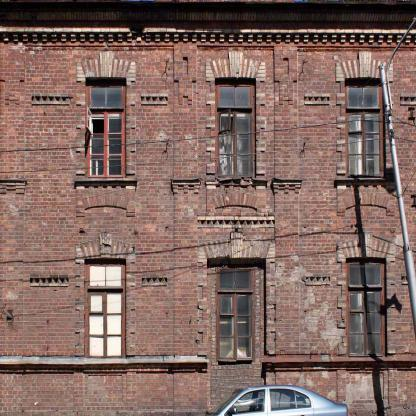Building Outline: (0, 1, 416, 416)
Dont: (378, 17, 416, 343), (205, 372, 350, 416)
Facade: (0, 1, 416, 416)
Floor: (1, 12, 416, 212)
Floor Slab: (1, 212, 416, 220)
Ground Floor: (1, 221, 416, 415)
Molding: (0, 11, 416, 44), (30, 275, 69, 287), (32, 93, 70, 105), (141, 93, 168, 105), (304, 93, 330, 105), (142, 274, 167, 286), (305, 274, 330, 285), (400, 93, 416, 105)
Window: (84, 258, 126, 358), (215, 77, 256, 178), (346, 257, 387, 358), (86, 77, 126, 178), (345, 78, 385, 178), (217, 262, 254, 363)
Window Outline: (197, 232, 276, 355), (75, 233, 136, 356), (76, 52, 136, 174), (206, 52, 266, 174), (336, 51, 394, 174), (337, 233, 396, 353)
